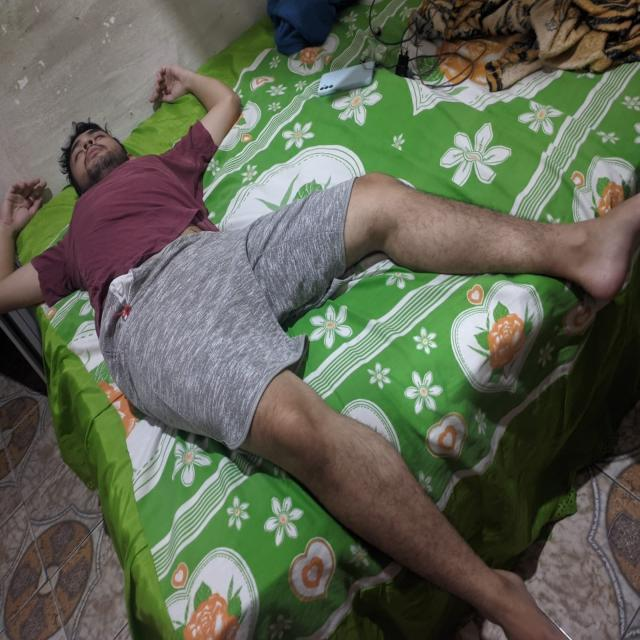deitado: (22, 79, 640, 639)
